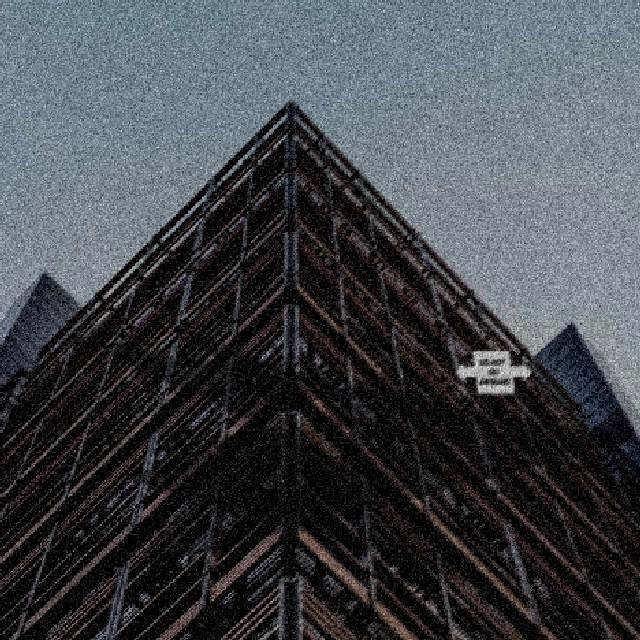DO_NOT_GO_AROUND: (453, 348, 532, 393)
